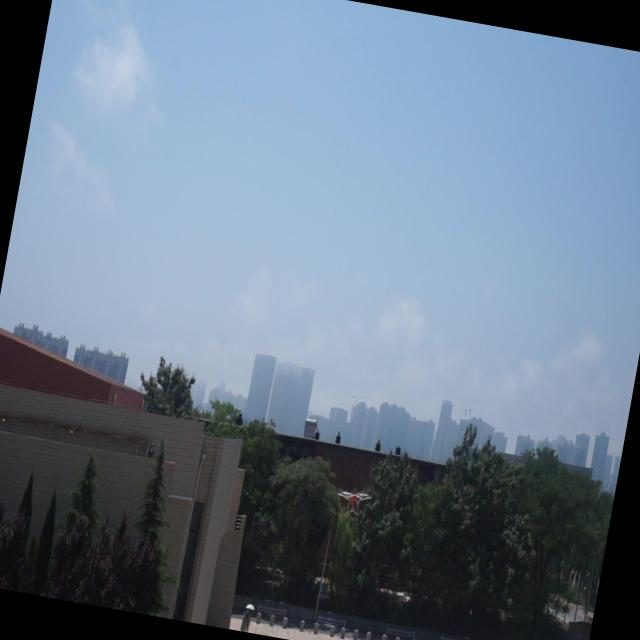drone: (336, 486, 372, 518)
